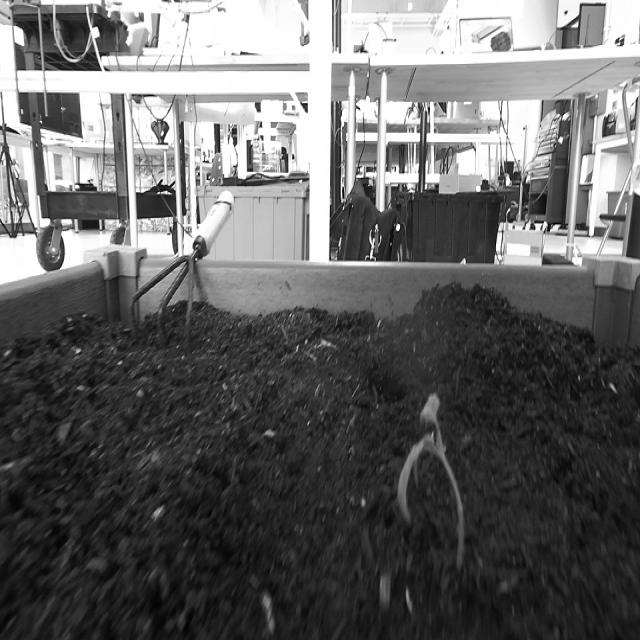Unhealthy: (394, 384, 471, 572)
